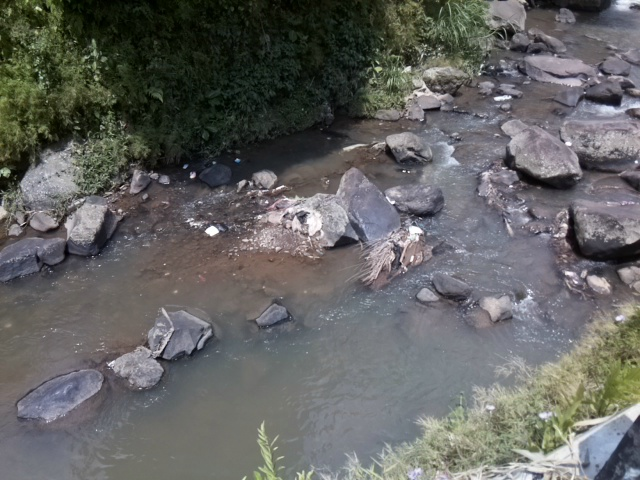Sampah_Styrofoam: (204, 225, 220, 236)
